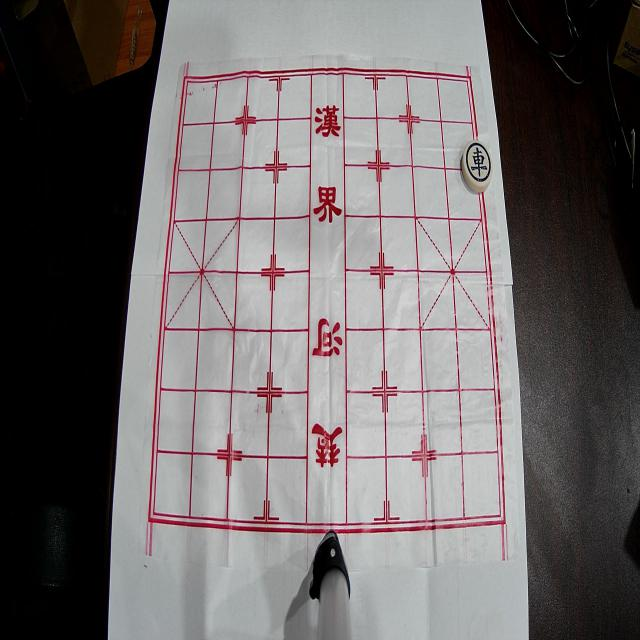black-chariot: (461, 140, 493, 193)
